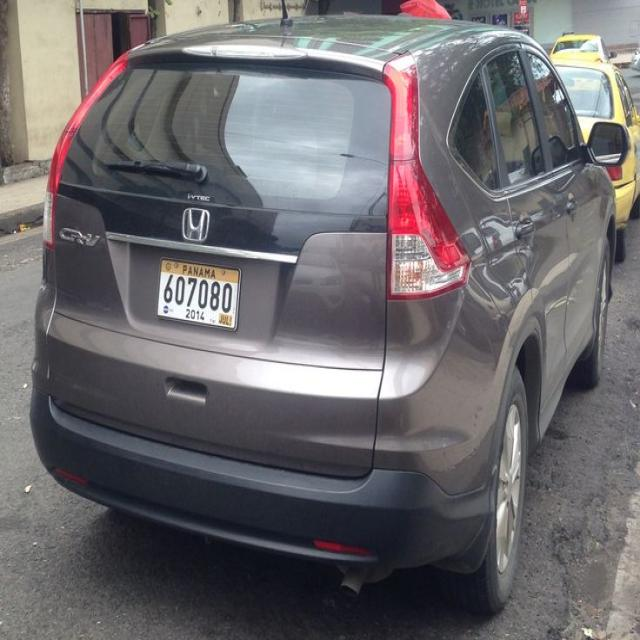Placas: (157, 258, 242, 333)
